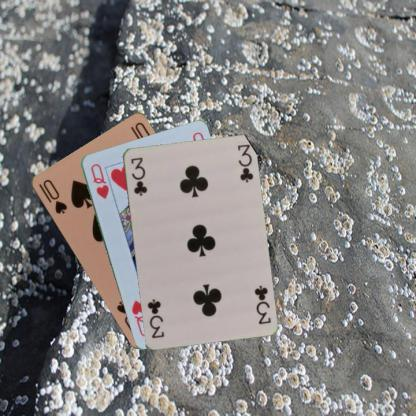10s: (35, 176, 68, 216)
3c: (127, 155, 148, 197), (252, 282, 272, 326)
Qh: (88, 160, 110, 200)
